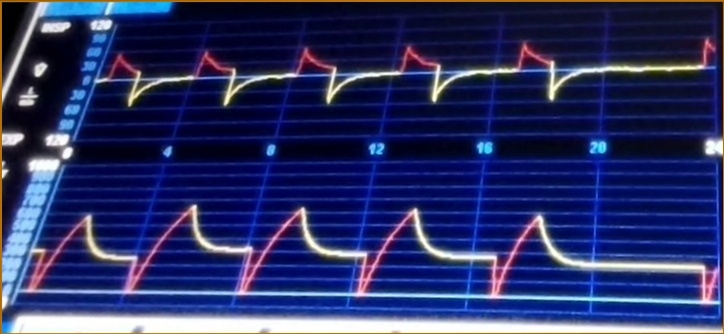Flow: (105, 32, 716, 131)
Leakage Volume: (51, 181, 718, 312)
